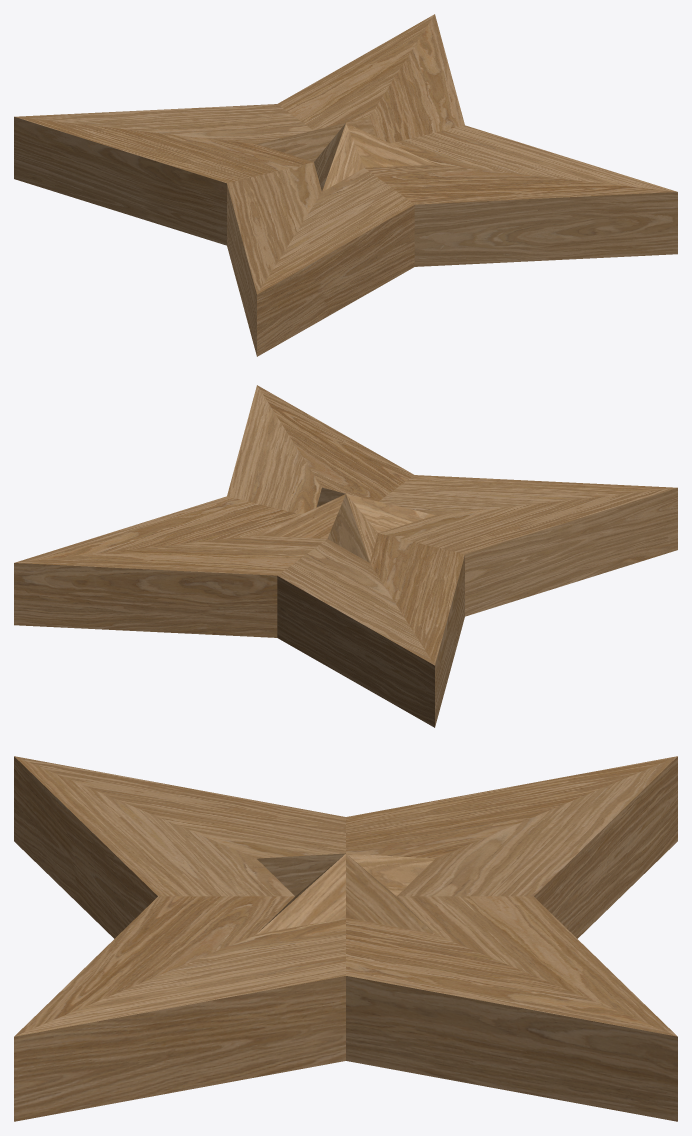
File: StarPlatform.fbx
The picture shows the model from 3 angles, top to bottom: view 1: azimuth 30°, elevation 25°; view 2: azimuth 150°, elevation 25°; view 3: azimuth 270°, elevation 25°; orthographic projection. The views are drawn at different scales.
Visible parts, largest first — view 1: Star; view 2: Star; view 3: Star.
Part boxes in pixels (x1,y1,x2,y2): Star: (14,14,677,356); Star: (14,385,677,727); Star: (14,756,677,1121).
Size of the model in its own units: 141 by 30.11 by 141.
1 material, 1 textured.
